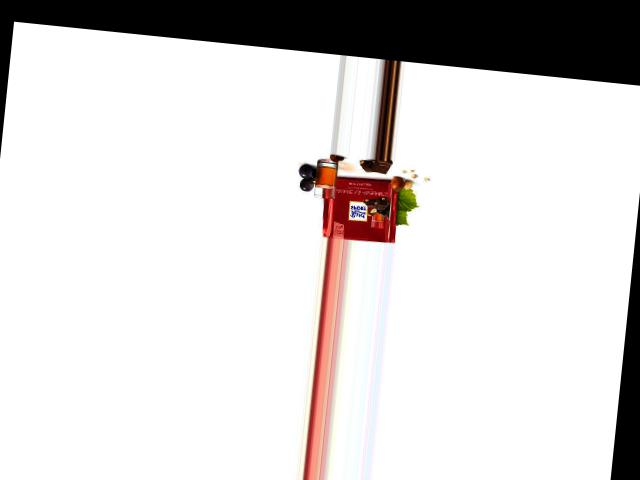chocolate: (321, 174, 403, 243)
